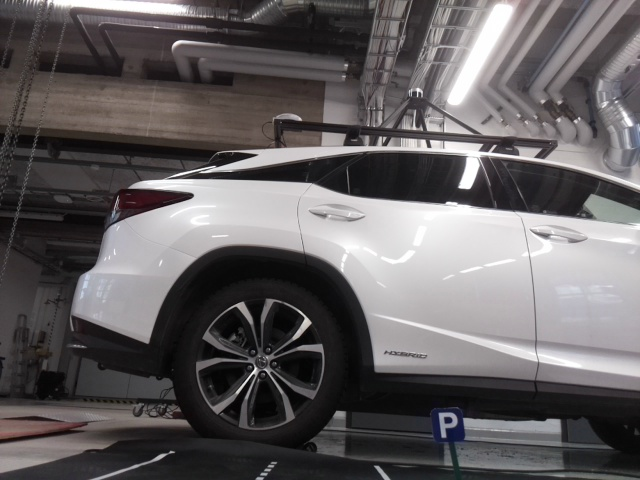Parking: (429, 408, 464, 443)
